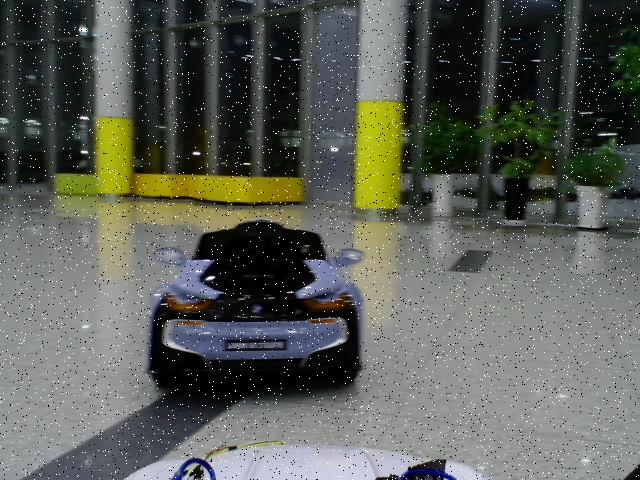car: (146, 218, 366, 383)
